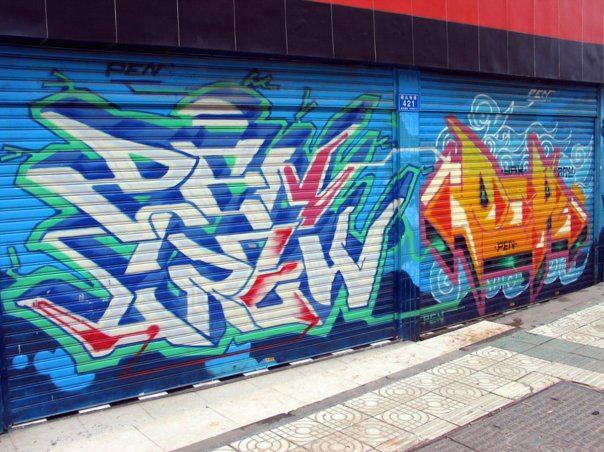graffity: (4, 55, 421, 382), (417, 108, 592, 324)
